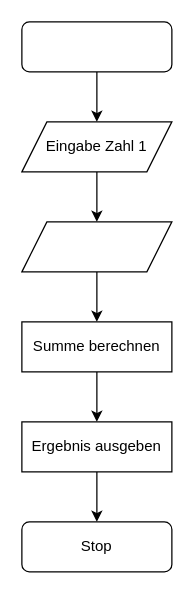
Image size: 194x594. Some labels were removed from this diagram. The shapes that lost their labels are listed below. From the top down, each one's centre as x and y in pixels, then its label:
(96,46): Start
(96,246): Eingabe Zahl 2
